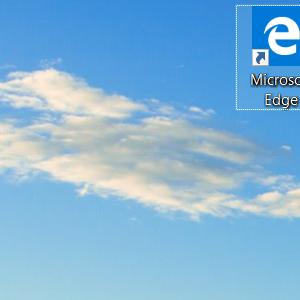edge: (252, 5, 300, 66)
